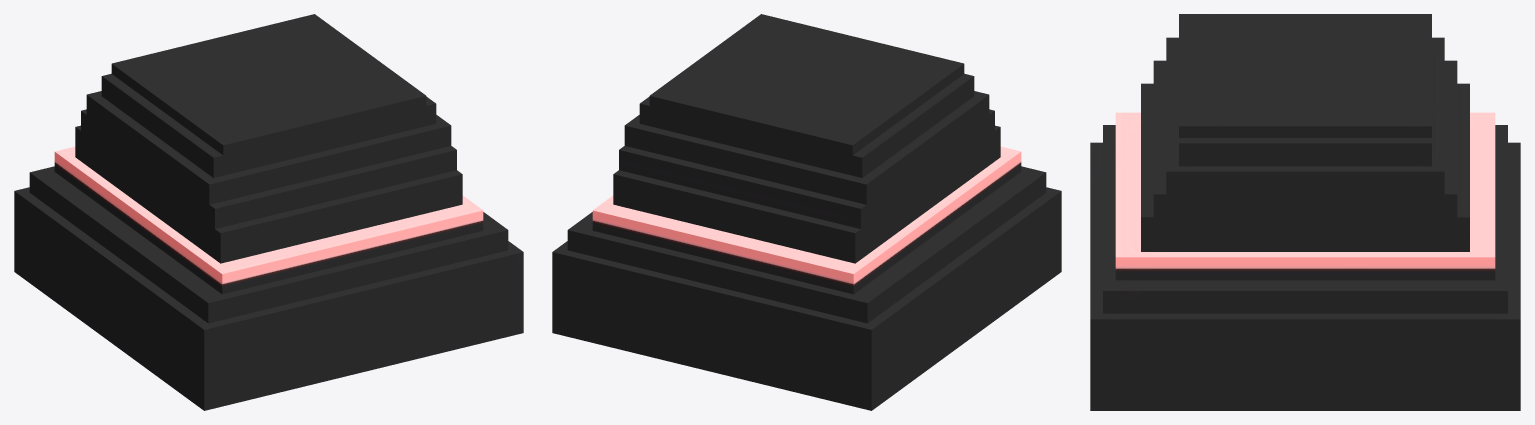
File: beanie.glb
3 views of the same model, side by side, from view 1: azimuth 30°, elevation 25°; view 2: azimuth 150°, elevation 25°; view 3: azimuth 270°, elevation 25° (orthographic). The views are drawn at different scales.
Parts seen in each view (by area): view 1: beanie.001; view 2: beanie.001; view 3: beanie.001.
Part boxes in pixels (x1,y1,x2,y2): beanie.001: (14, 14, 523, 410); beanie.001: (552, 14, 1061, 410); beanie.001: (1090, 14, 1520, 410).
Size of the model in its own units: 3.3 by 2.2 by 3.4.
1 material, 1 textured.
